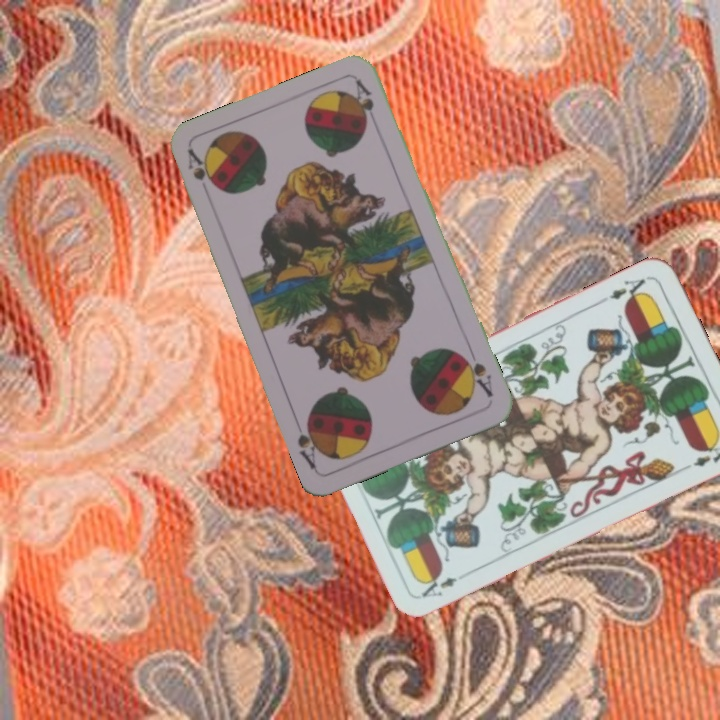EA: (605, 272, 651, 306), (417, 569, 460, 600)
SA: (457, 350, 496, 400), (183, 145, 218, 191)
